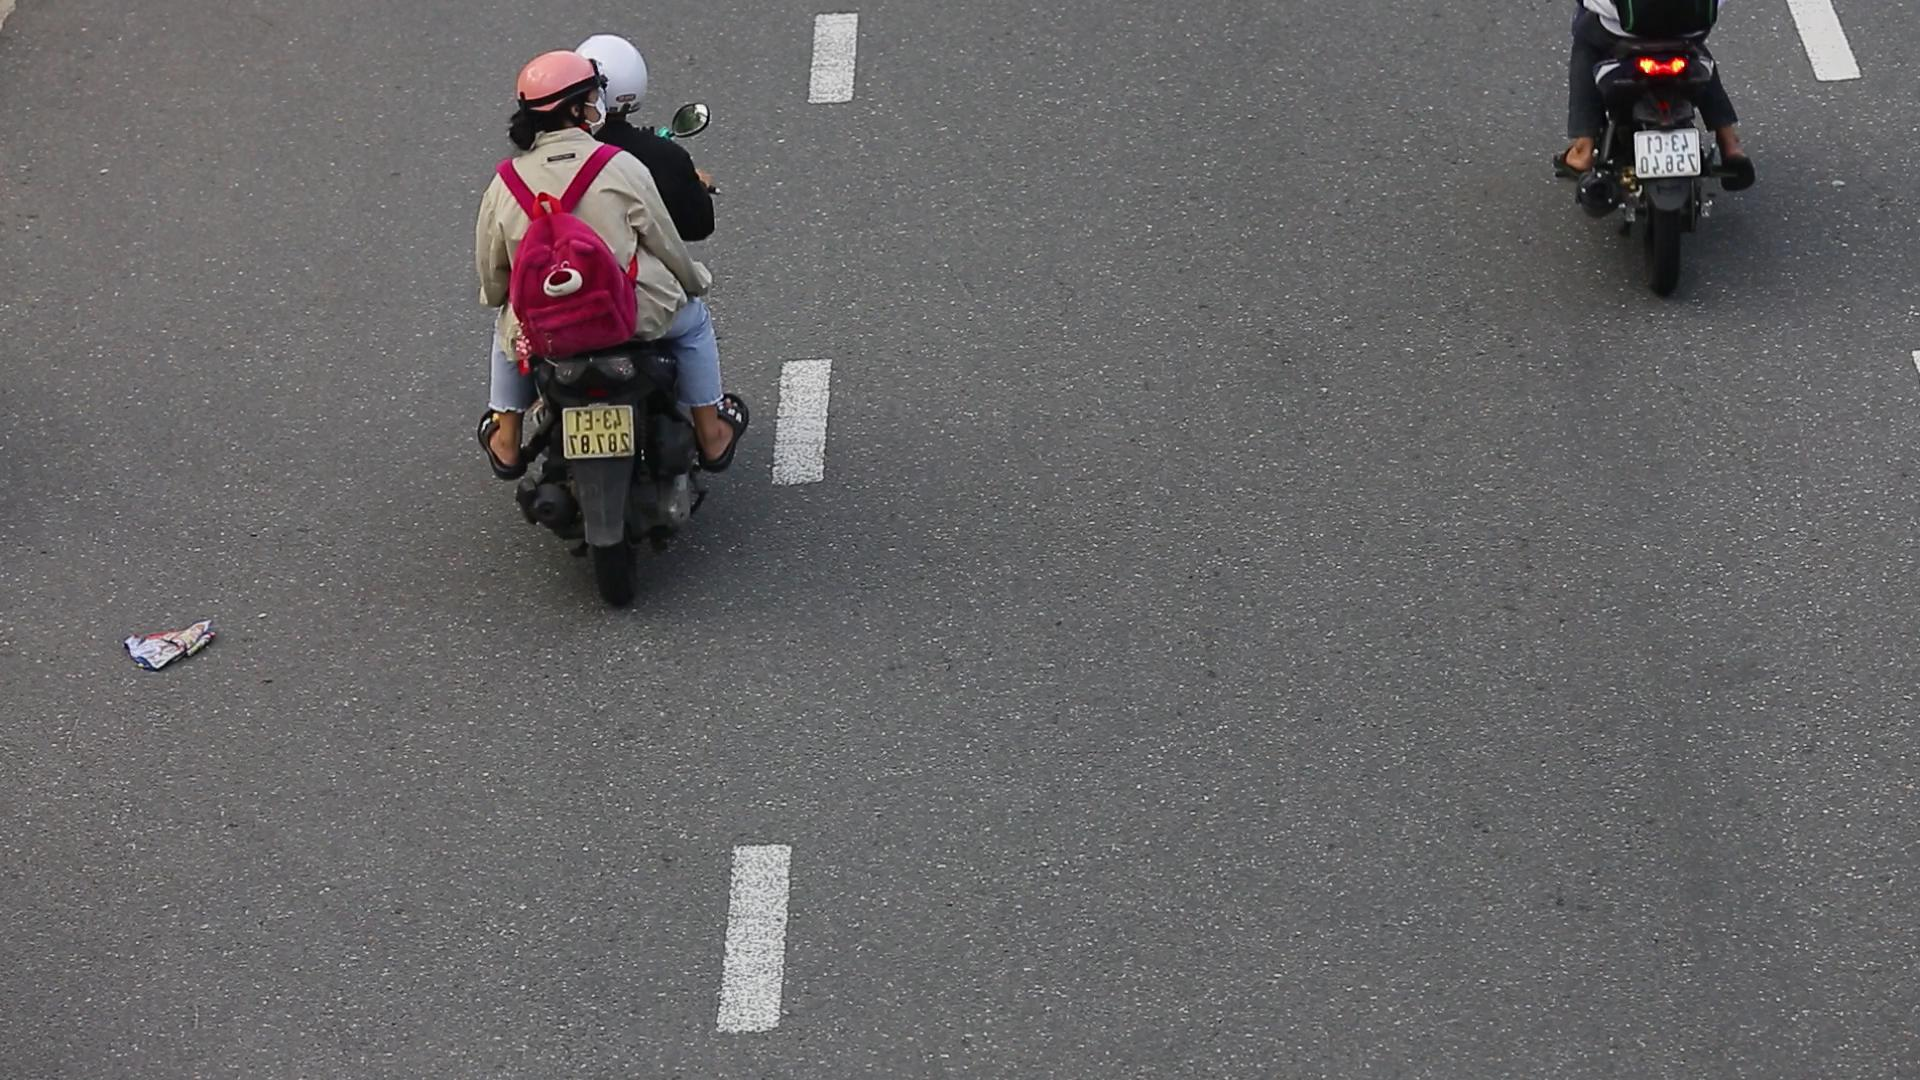motobike: (464, 33, 744, 607)
